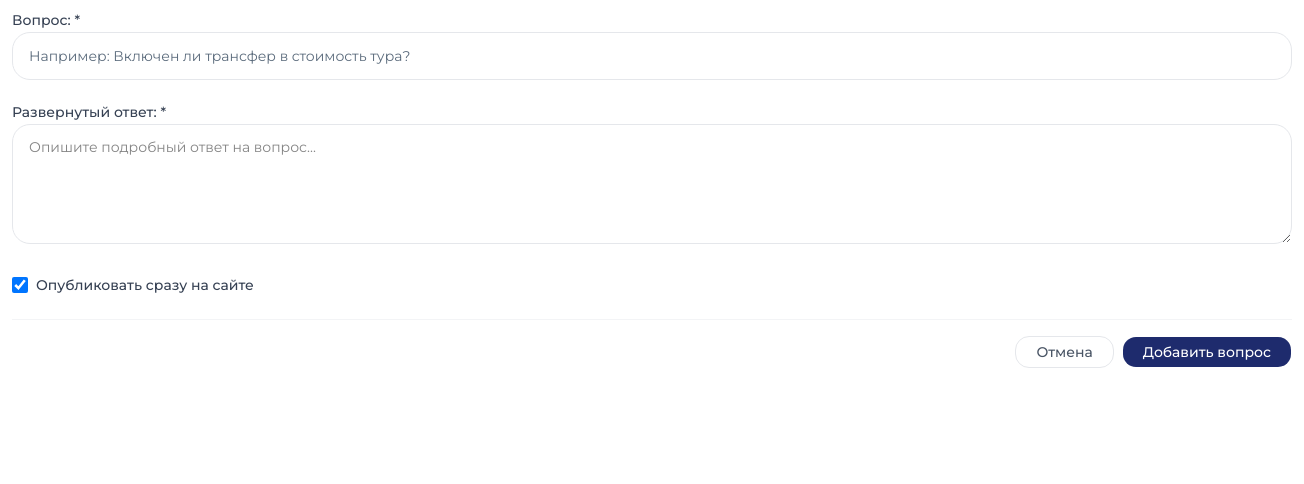
Test: FaqForm › обработка ошибок сервера › подставляет ошибки полей из details
The image size is (1304, 484).
Type "Вопрос?" into the field with placeholder "Например: Включен ли трансфер в стоимость тура?" at (652, 56), box top-left (12, 32), bottom-right (1292, 80)
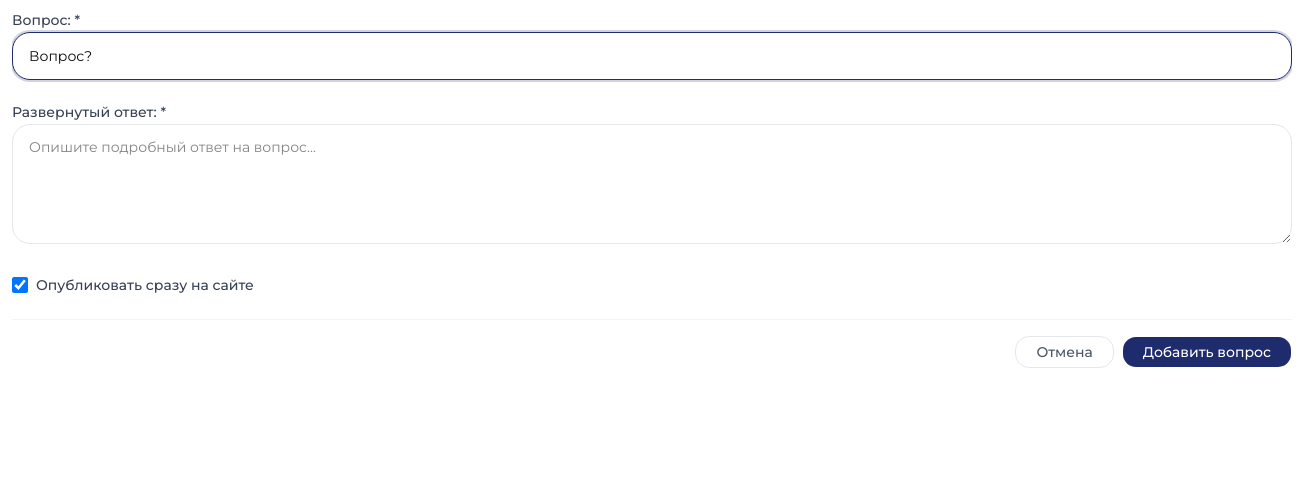
Type "Ответ" into the text box with placeholder "Опишите подробный ответ на вопрос..." at (652, 184), box top-left (12, 124), bottom-right (1292, 244)
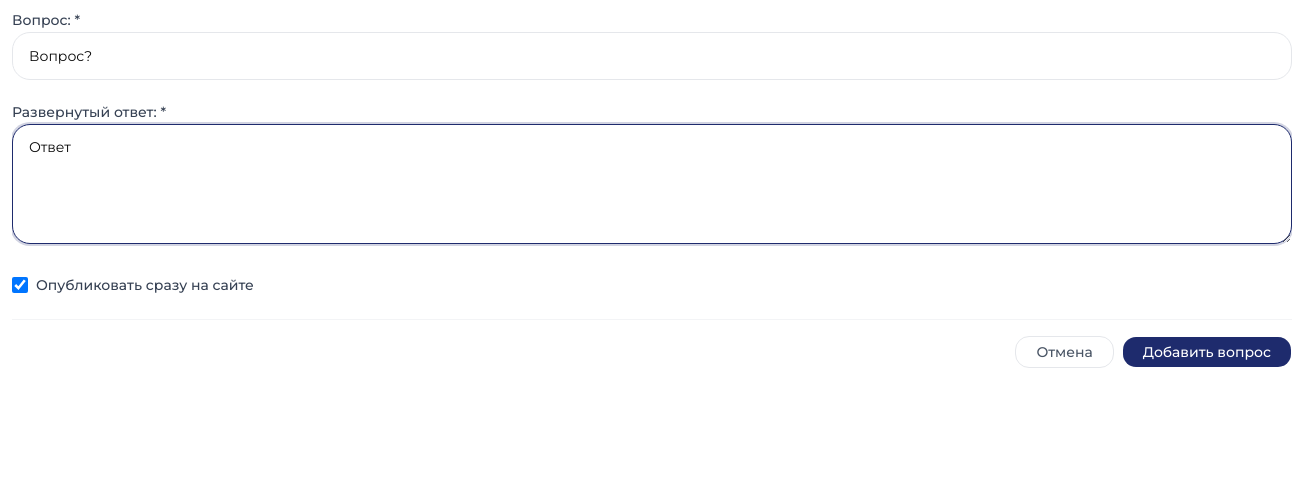
Click the button "Добавить вопрос" at (1207, 352), box top-left (1122, 336), bottom-right (1292, 368)
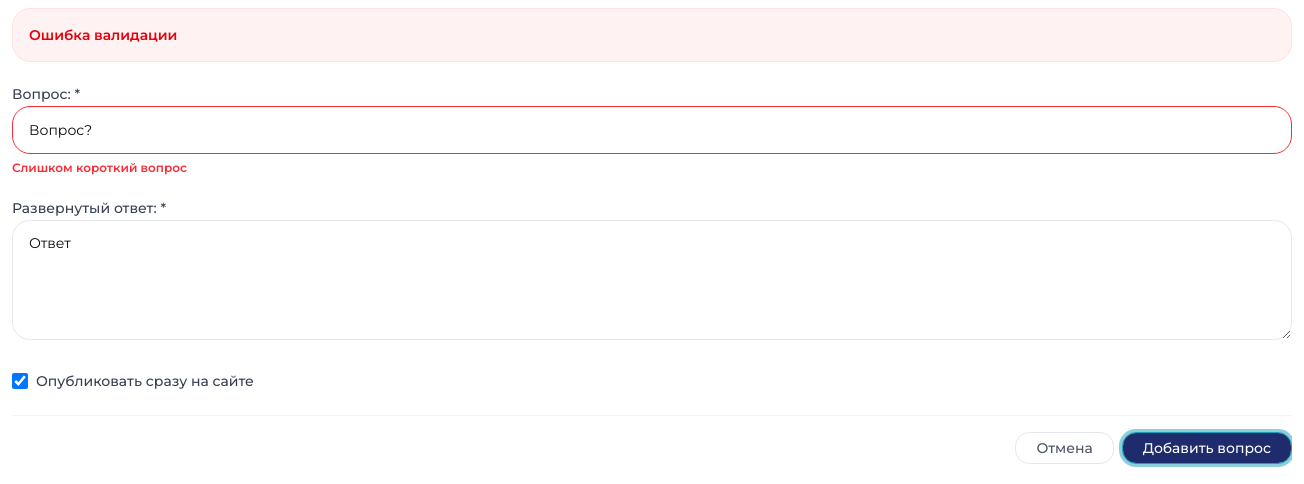
Expected: the text "Слишком короткий вопрос" is shown, top-left (12, 160), bottom-right (187, 175)
Expected: the text "Ошибка валидации" is shown, top-left (12, 8), bottom-right (1292, 62)
